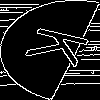K: (25, 25, 100, 72)
